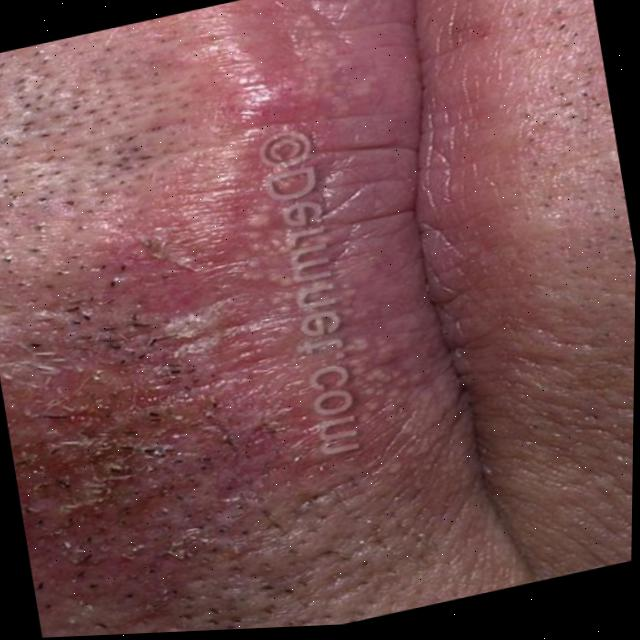Rosacea: (0, 210, 269, 618)
